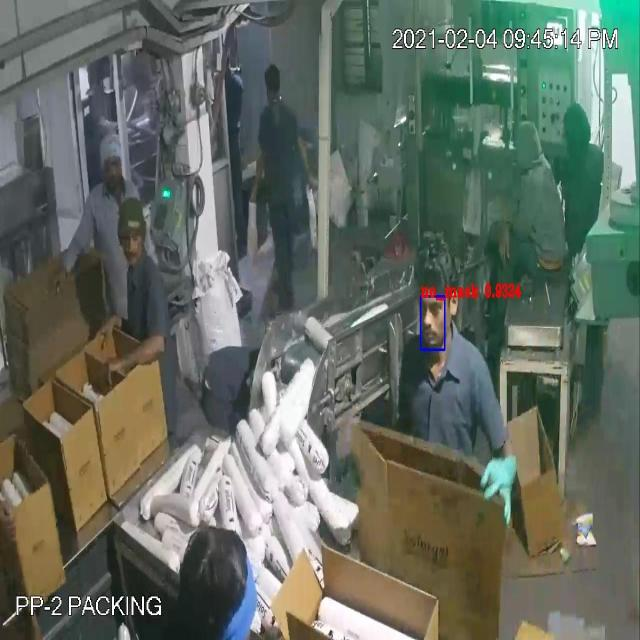gloves: (475, 448, 527, 531)
no-gloves: (100, 335, 183, 386), (36, 244, 84, 298), (85, 304, 139, 350), (292, 116, 320, 202), (247, 124, 269, 208), (497, 215, 517, 273)
